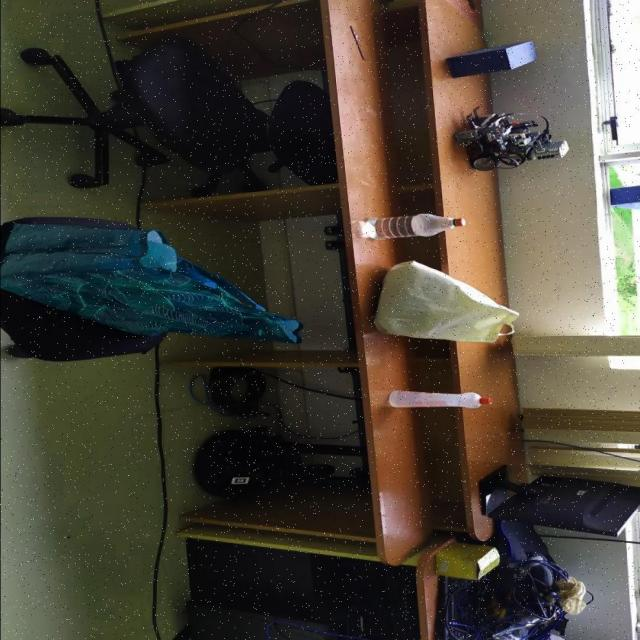Bag: (0, 224, 309, 345), (369, 259, 519, 345)
